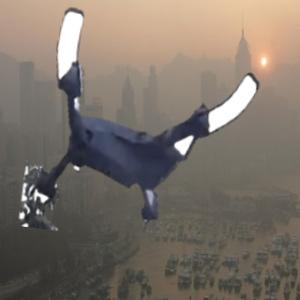drone: (31, 16, 257, 242)
